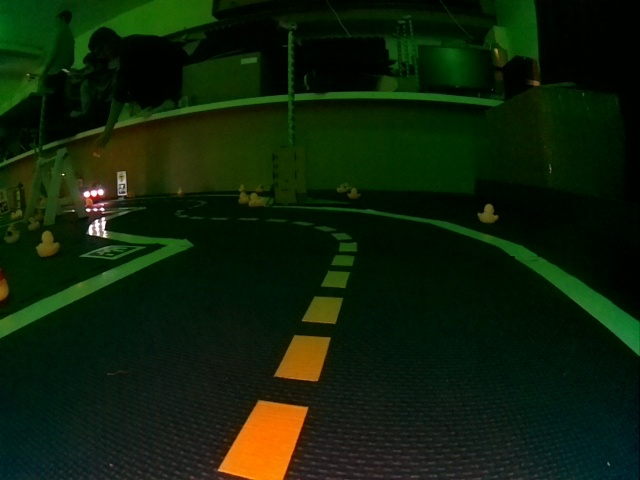Duckie: (37, 231, 59, 257), (477, 204, 498, 223), (5, 227, 20, 243), (249, 194, 262, 206), (27, 218, 39, 231), (347, 188, 360, 198), (239, 192, 247, 202), (255, 185, 264, 193), (11, 211, 19, 219), (337, 185, 346, 192)
Duckiebot: (83, 187, 104, 202)
Intersection sign: (117, 172, 126, 182)
QR code: (80, 245, 145, 259), (118, 184, 126, 194)
